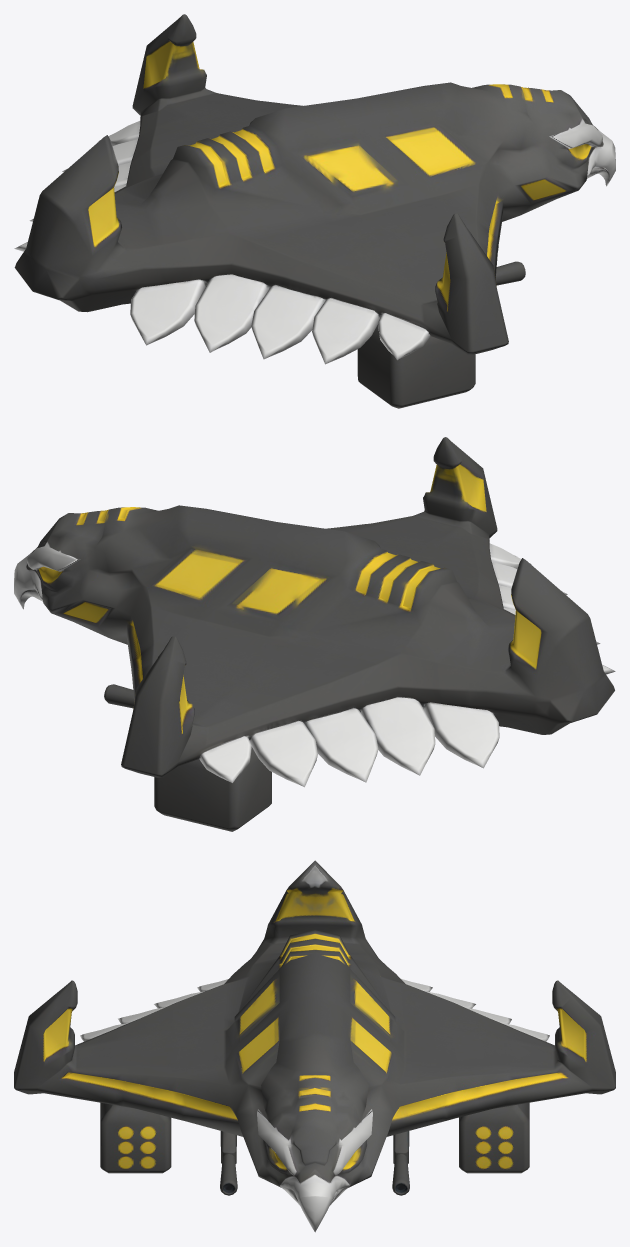
Rendered from skai_thunderhead_v5.glb.
3 renders of one model, top to bottom at view 1: azimuth 30°, elevation 25°; view 2: azimuth 150°, elevation 25°; view 3: azimuth 270°, elevation 25°, orthographic. The views are drawn at different scales.
Visible parts, largest first — view 1: tripo_node_8767a97e-0325-4826-a718-abf0cb972fa8; view 2: tripo_node_8767a97e-0325-4826-a718-abf0cb972fa8; view 3: tripo_node_8767a97e-0325-4826-a718-abf0cb972fa8.
Boxes of the visible parts, x1,y1,x2,y2 form: tripo_node_8767a97e-0325-4826-a718-abf0cb972fa8: (14,14,615,408); tripo_node_8767a97e-0325-4826-a718-abf0cb972fa8: (14,437,615,831); tripo_node_8767a97e-0325-4826-a718-abf0cb972fa8: (14,860,615,1232).
Size of the model in its own units: 0.9995 by 0.3794 by 0.9995.
1 material, 1 textured.
